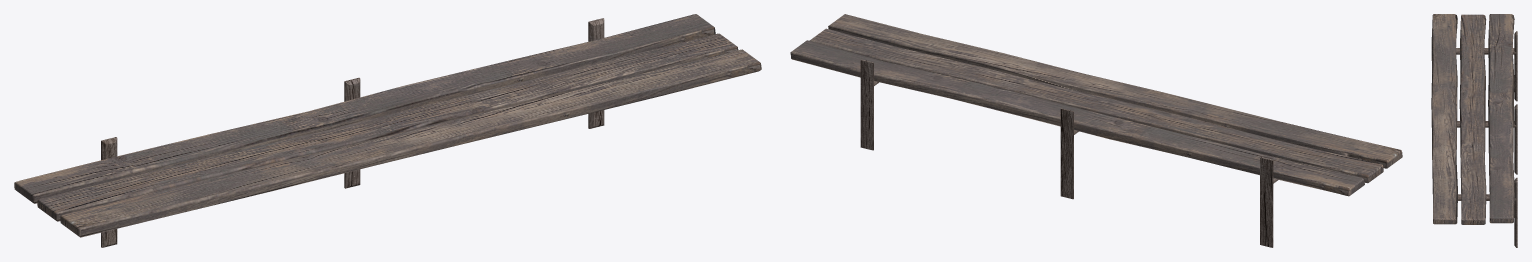
Rendered from WoodShelf01.FBX.
3 renders of one model, left to right at view 1: azimuth 30°, elevation 25°; view 2: azimuth 150°, elevation 25°; view 3: azimuth 270°, elevation 25°, orthographic. The views are drawn at different scales.
Parts seen in each view (by area): view 1: Box005; view 2: Box005; view 3: Box005.
Boxes of the visible parts, x1,y1,x2,y2 form: Box005: (14,14,761,247); Box005: (790,14,1402,247); Box005: (1431,14,1517,247).
Size of the model in its own units: 70.87 by 10.56 by 12.57.
